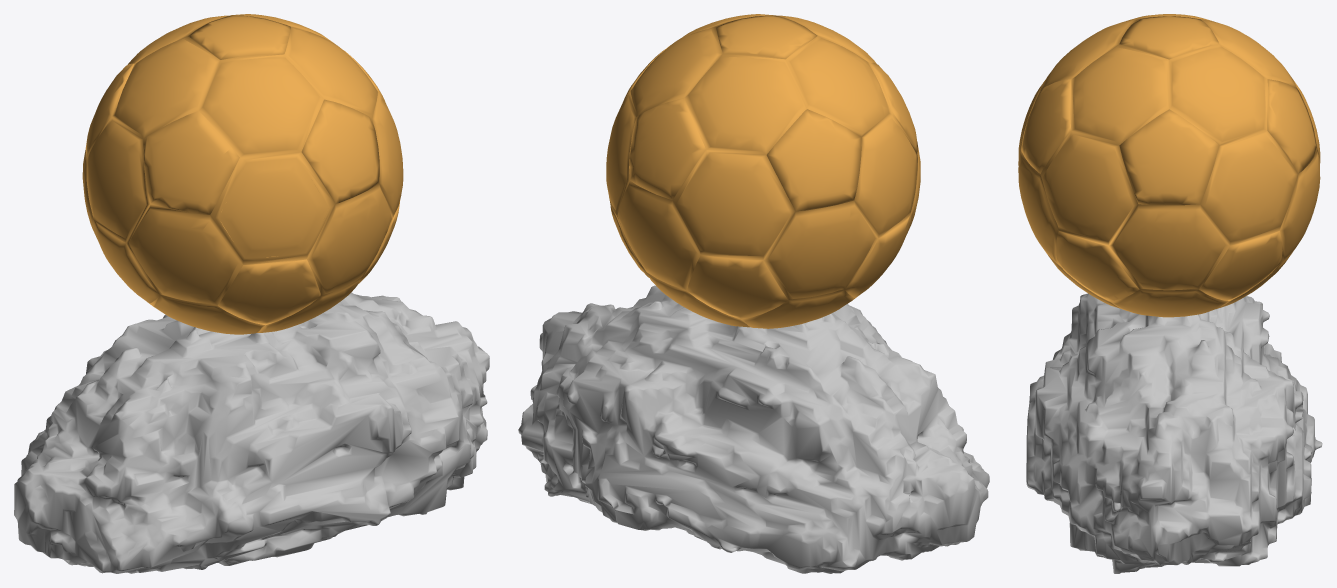
File: ballon-dor.glb
3 renders of one model, left to right at view 1: azimuth 30°, elevation 25°; view 2: azimuth 150°, elevation 25°; view 3: azimuth 270°, elevation 25°, orthographic. The views are drawn at different scales.
Visible parts, largest first — view 1: Sphere, Icosphere; view 2: Sphere, Icosphere; view 3: Icosphere, Sphere.
Part boxes in pixels (x1,y1,x2,y2): Sphere: (14, 292, 489, 573); Icosphere: (82, 14, 403, 334); Sphere: (518, 285, 989, 573); Icosphere: (606, 14, 920, 328); Icosphere: (1018, 14, 1320, 317); Sphere: (1026, 293, 1322, 573).
Size of the model in its own units: 2.88 by 3.05 by 1.78.
